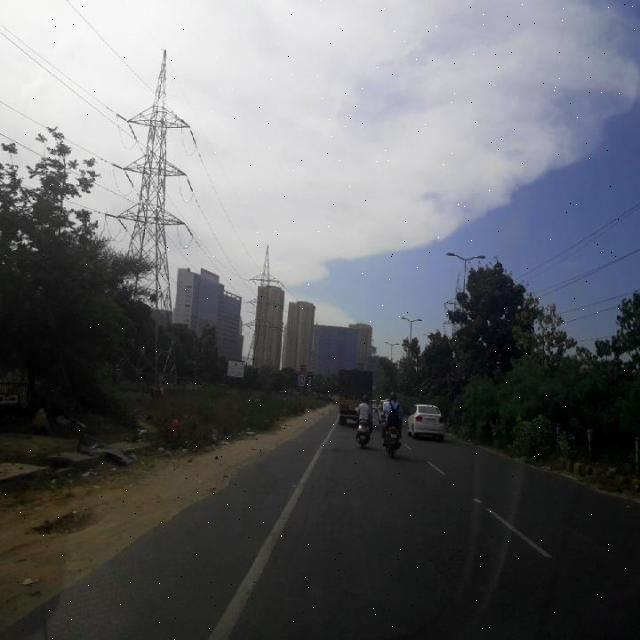D20: (241, 453, 411, 634), (422, 470, 534, 620)
